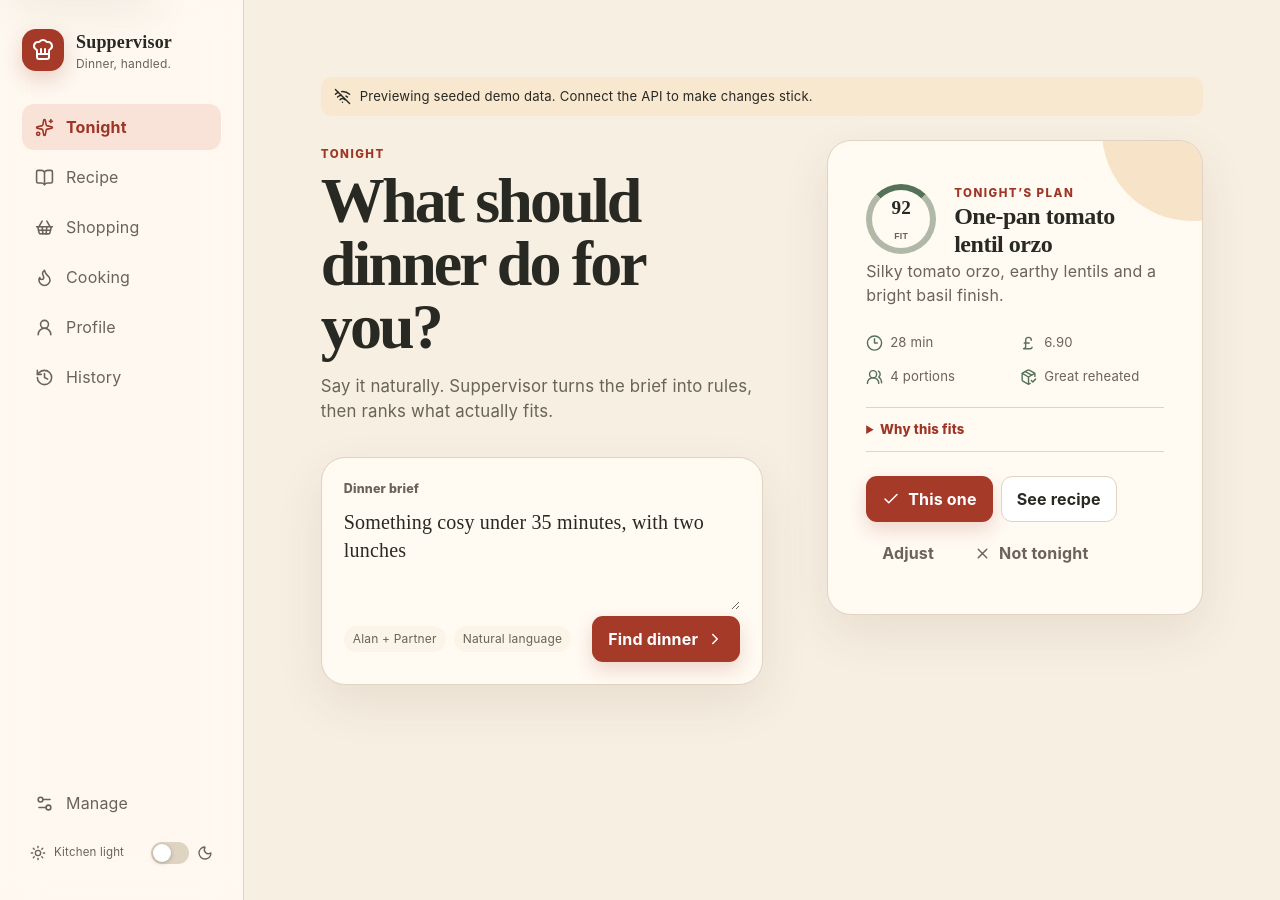
Scenario: Suppervisor PWA › shows distinct profiles, mobile history, and management
Expected: the heading "What should dinner do for you?" is shown, [321,165,644,362]
Click the button "Profile". click: (122, 327)
box: [22,304,221,350]
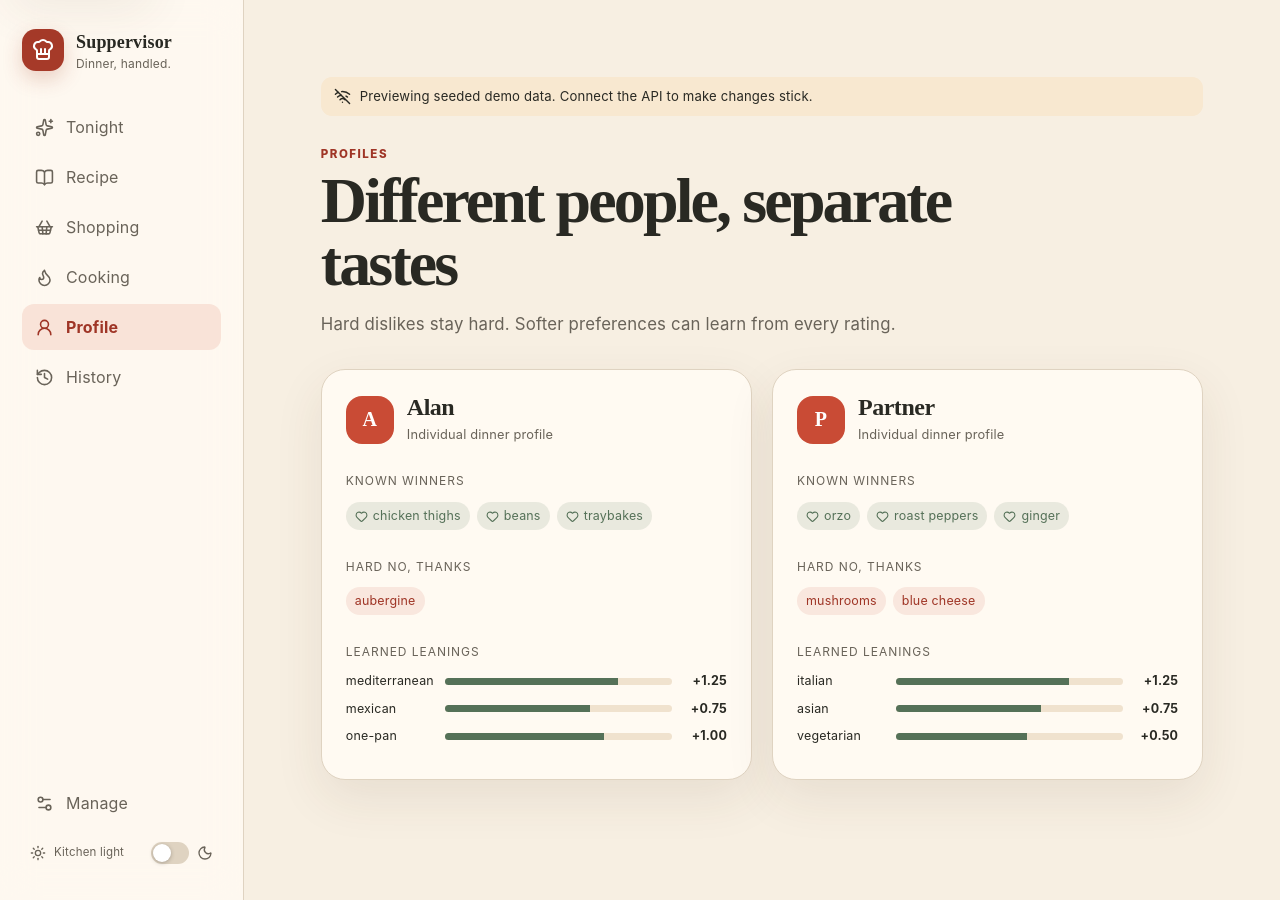
Expected: the heading "Alan" is shown, [407,394,454,420]
Expected: the heading "Partner" is shown, [858,394,935,420]
Click the button "Manage". click: (122, 803)
box: [22,780,221,826]
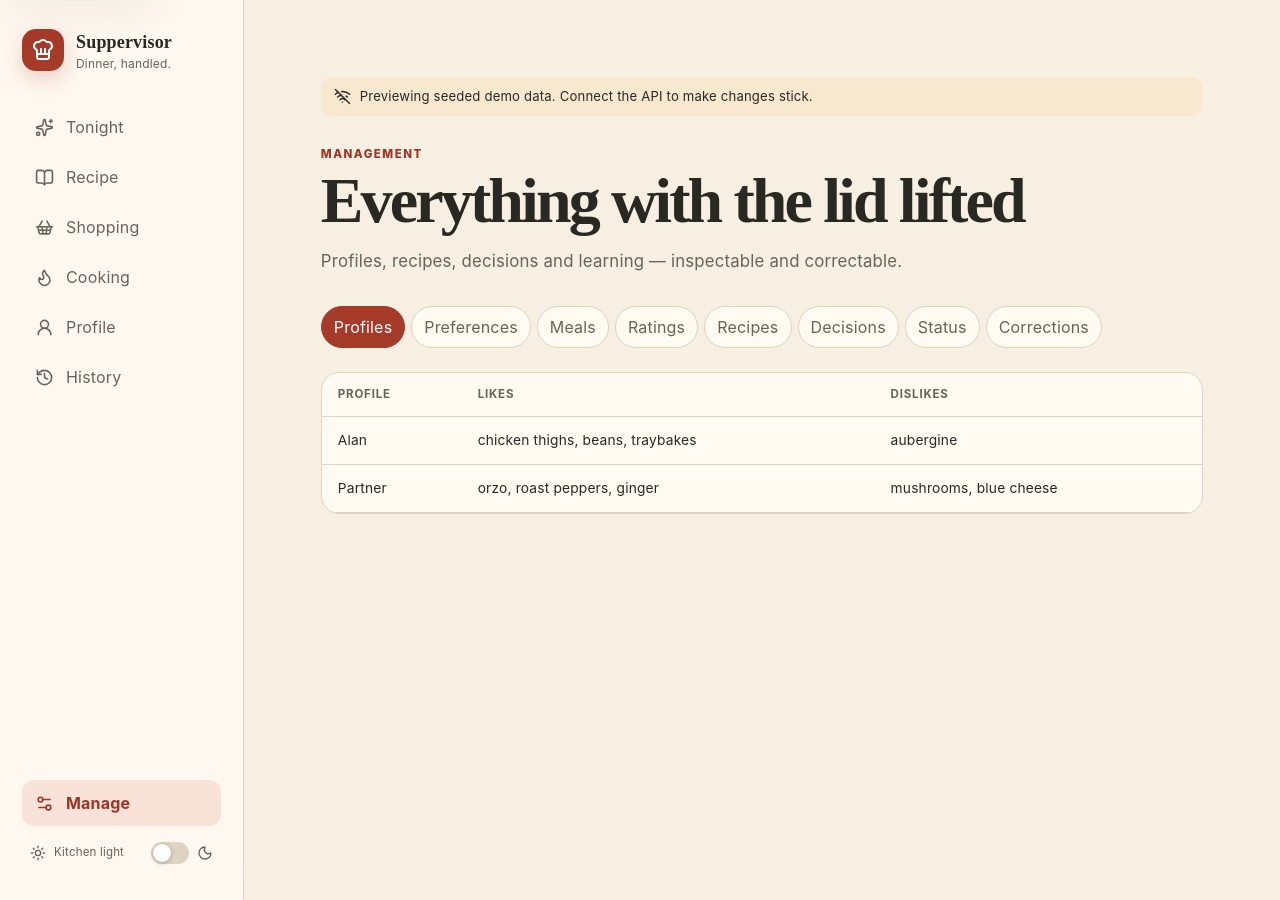
Now the tab "preferences" is shown, box [411,306,531,348]
Now the tab "corrections" is shown, box [986,306,1102,348]
